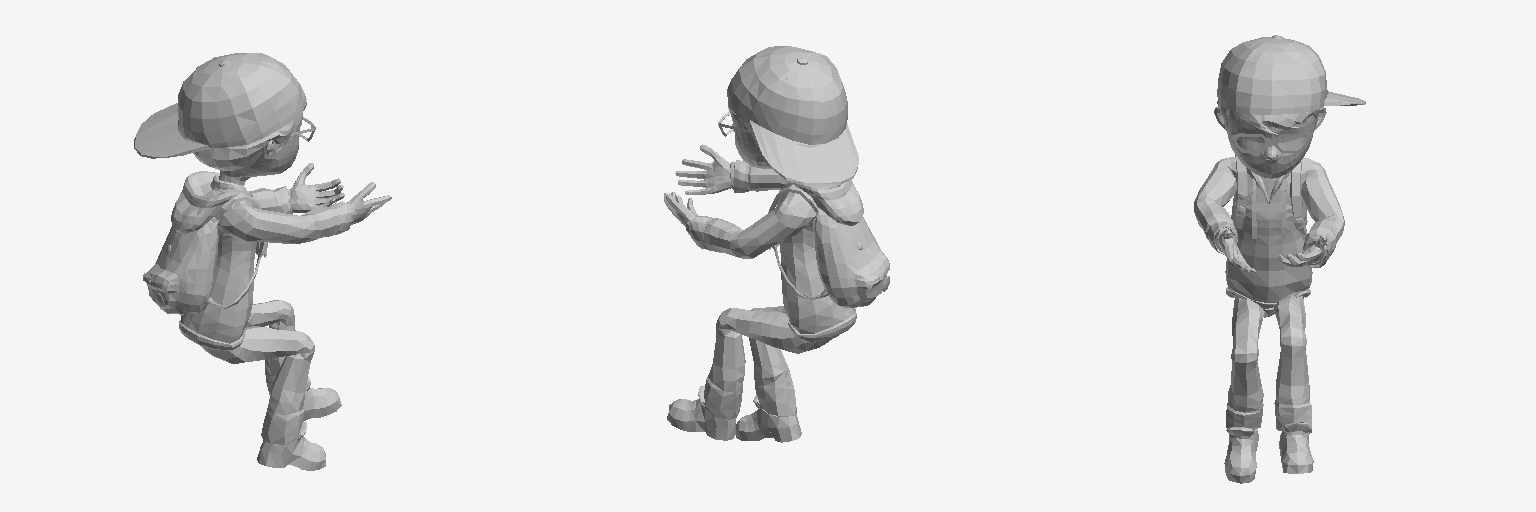
The model's file is boy.obj.
3 views of the same model, side by side, from view 1: azimuth 30°, elevation 25°; view 2: azimuth 150°, elevation 25°; view 3: azimuth 270°, elevation 25° (orthographic).
Visible parts, largest first — view 1: Boy01_Body_Geo; view 2: Boy01_Body_Geo; view 3: Boy01_Body_Geo, h_Geo, Boy01_Eyes_Geo, Boy01_Brows_Geo.
Part boxes in pixels (bbox=[...]): Boy01_Body_Geo: bbox=[134, 53, 391, 470]; Boy01_Body_Geo: bbox=[664, 46, 889, 442]; Boy01_Body_Geo: bbox=[1194, 35, 1365, 483]; h_Geo: bbox=[1238, 149, 1303, 178]; Boy01_Eyes_Geo: bbox=[1232, 123, 1309, 155]; Boy01_Brows_Geo: bbox=[1230, 111, 1312, 138].
Bounding box in the file's own units: 0.9439 × 1.65 × 0.6337.